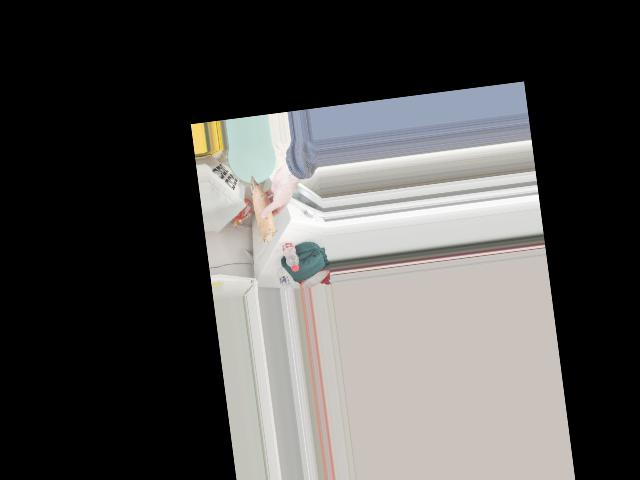sweet_potato: (252, 177, 279, 246)
